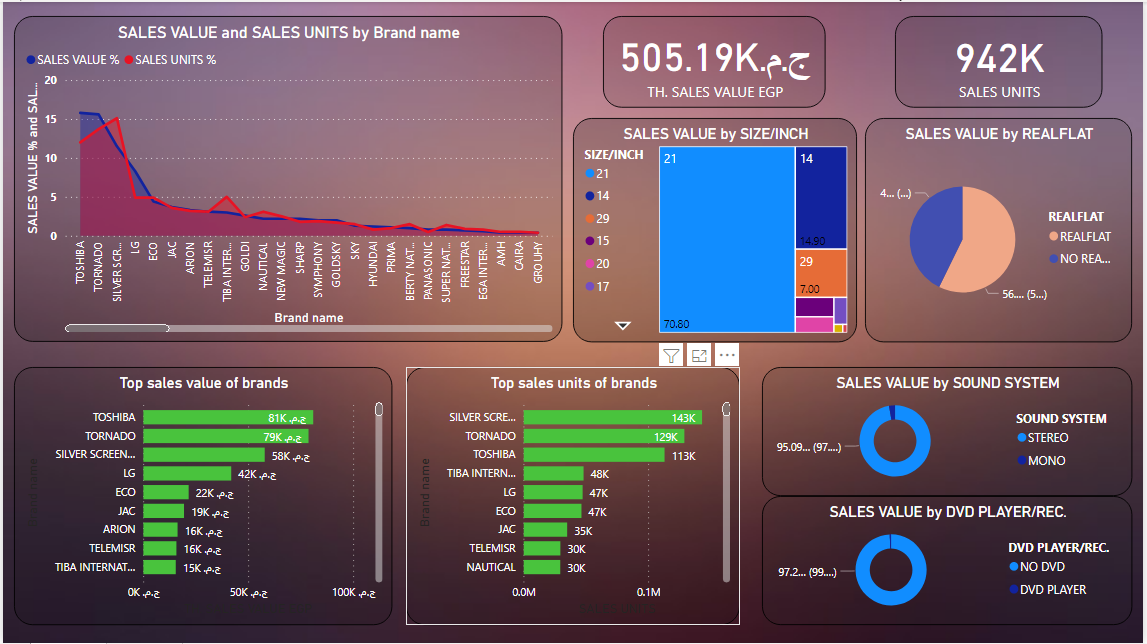

The dashboard page shown, as its layout file describes it:
{"tool":"powerbi","page":{"name":"Page 1","canvas":[1280,720],"ordinal":0},"visuals":[{"type":"barChart","title":"Top sales value of brands","fields":{"Y":["Sum(CRT TV 2012.TH. SALES VALUE EGP)"],"Category":["CRT TV 2012.Brand name"]},"box":[12.4,410,424.6,289.8],"z":0},{"type":"card","fields":{"Values":["Sum(CRT TV 2012.SALES UNITS)"]},"box":[1001.9,15.7,232.5,103.3],"z":1000},{"type":"areaChart","title":"SALES VALUE and SALES UNITS by Brand name","fields":{"Category":["CRT TV 2012.Brand name"],"Y":["Sum(CRT TV 2012.SALES VALUE %)","Sum(CRT TV 2012.SALES UNITS %)"]},"box":[12.4,15.7,615.5,366.2],"z":2000},{"type":"treemap","title":"SALES VALUE by SIZE/INCH","fields":{"Group":["CRT TV 2012.SIZE/INCH"],"Values":["Sum(CRT TV 2012.SALES VALUE %)"]},"box":[640.2,130.3,319,251.6],"z":3000},{"type":"card","fields":{"Values":["Sum(CRT TV 2012.TH. SALES VALUE EGP)"]},"box":[673.9,15.7,250.5,103.3],"z":4000},{"type":"pieChart","title":"SALES VALUE  by REALFLAT","fields":{"Category":["CRT TV 2012.REALFLAT"],"Y":["Sum(CRT TV 2012.SALES VALUE %)"]},"box":[968.2,130.3,299.9,251.6],"z":5000},{"type":"barChart","title":"Top sales units of brands","fields":{"Category":["CRT TV 2012.Brand name"],"Y":["Sum(CRT TV 2012.SALES UNITS)"]},"box":[452.7,410,375.2,289.8],"z":6000},{"type":"donutChart","title":"SALES VALUE  by SOUND SYSTEM","fields":{"Y":["Sum(CRT TV 2012.SALES VALUE %)"],"Category":["CRT TV 2012.SOUND SYSTEM"]},"box":[852.5,410,415.6,144.9],"z":7000},{"type":"donutChart","title":"SALES VALUE  by DVD PLAYER/REC.","fields":{"Category":["CRT TV 2012.DVD PLAYER/REC."],"Y":["Sum(CRT TV 2012.SALES VALUE %)"]},"box":[852.5,554.9,415.6,144.9],"z":8000}]}

Visuals, with their boxes in screenshot pixels (x1, y1, x2, y2), scaled from the page's 1280x720 canvas onto the 1147x644 screenshot:
"Top sales value of brands" barChart: {"left": 11, "top": 367, "right": 392, "bottom": 626}
card - Sum(CRT TV 2012.SALES UNITS): {"left": 898, "top": 14, "right": 1106, "bottom": 106}
"SALES VALUE and SALES UNITS by Brand name" areaChart: {"left": 11, "top": 14, "right": 563, "bottom": 342}
"SALES VALUE by SIZE/INCH" treemap: {"left": 574, "top": 117, "right": 860, "bottom": 342}
card - Sum(CRT TV 2012.TH. SALES VALUE EGP): {"left": 604, "top": 14, "right": 828, "bottom": 106}
"SALES VALUE  by REALFLAT" pieChart: {"left": 868, "top": 117, "right": 1136, "bottom": 342}
"Top sales units of brands" barChart: {"left": 406, "top": 367, "right": 742, "bottom": 626}
"SALES VALUE  by SOUND SYSTEM" donutChart: {"left": 764, "top": 367, "right": 1136, "bottom": 496}
"SALES VALUE  by DVD PLAYER/REC." donutChart: {"left": 764, "top": 496, "right": 1136, "bottom": 626}
